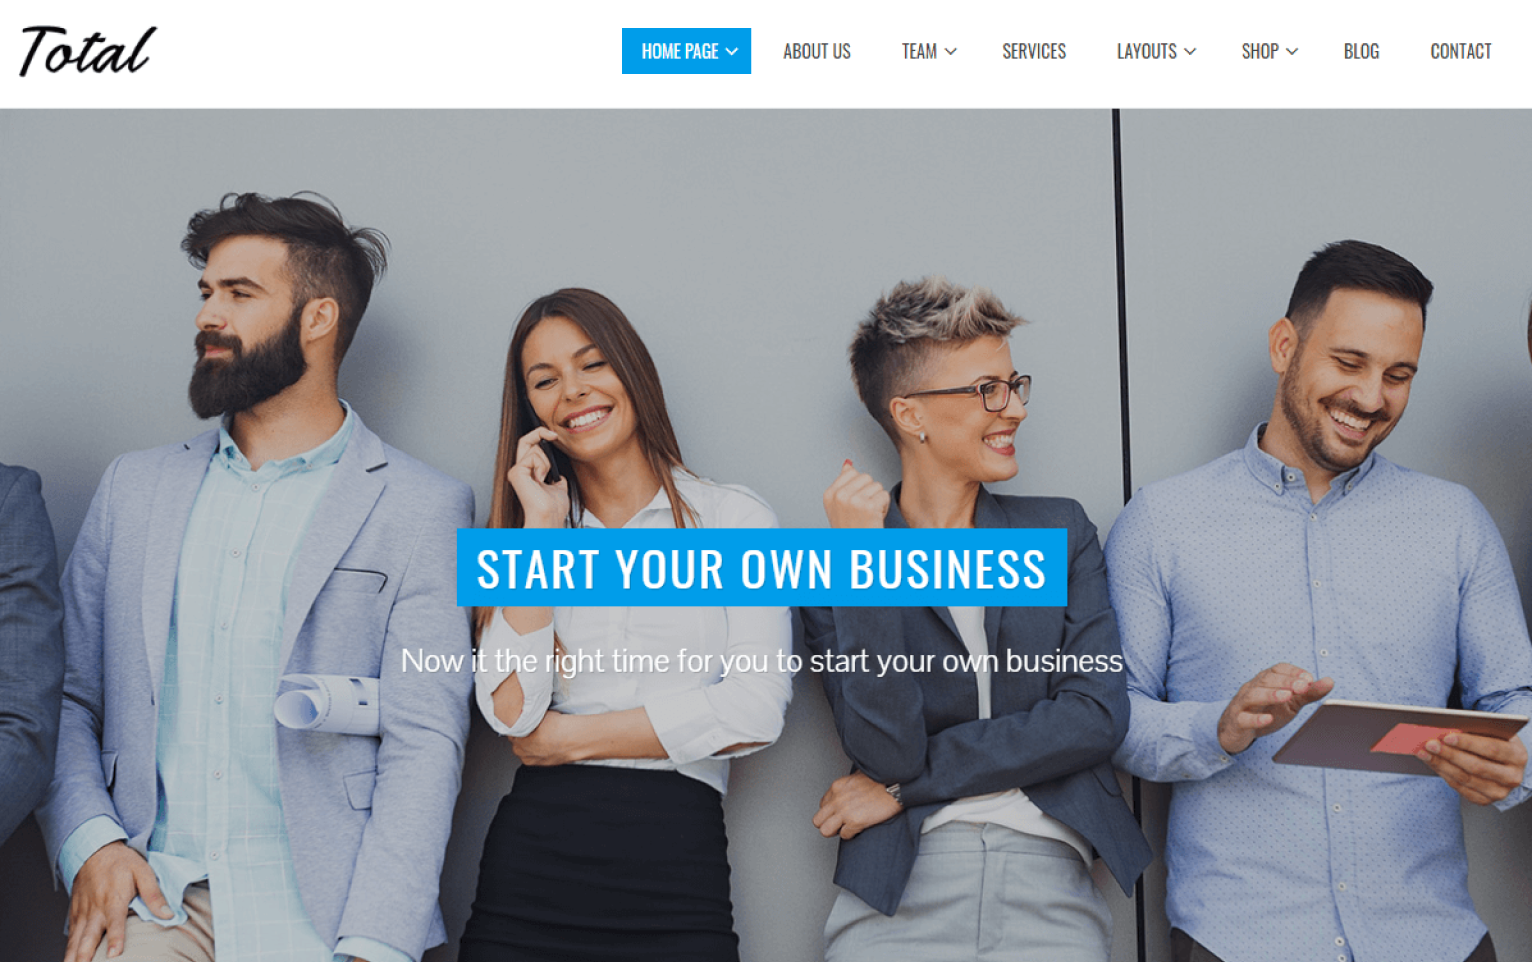menu: (12, 9, 1532, 180)
